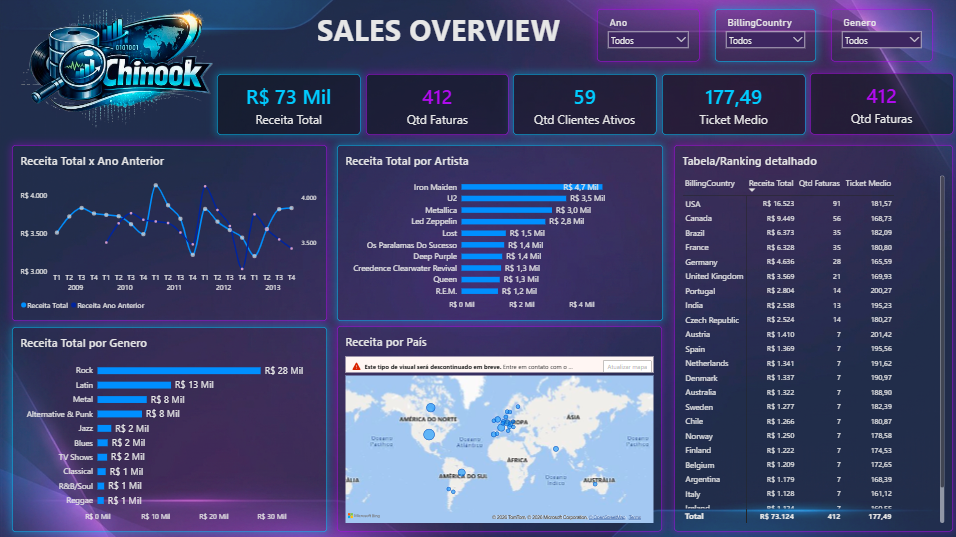

The dashboard page shown, as its layout file describes it:
{"tool":"powerbi","page":{"name":"Página 1","canvas":[1920,1080],"ordinal":0},"visuals":[{"type":"image","box":[0,19.8,480.5,251.3],"z":0},{"type":"textbox","box":[637,19.8,518,127.8],"z":1000},{"type":"card","fields":{"Values":["# Medidas.Receita Total"]},"box":[436.7,150,286.7,121.7],"z":2000},{"type":"card","fields":{"Values":["# Medidas.Qtd Faturas"]},"box":[733.3,150,285,121.7],"z":3000},{"type":"card","fields":{"Values":["# Medidas.Qtd Clientes Ativos"]},"box":[1028.3,150,286.7,121.7],"z":4000},{"type":"card","fields":{"Values":["# Medidas.Ticket Medio"]},"box":[1326.7,150,286.7,121.7],"z":5000},{"type":"card","fields":{"Values":["# Medidas.Qtd Faturas"]},"box":[1621.7,148.3,286.7,123.3],"z":6000},{"type":"lineChart","title":"Receita Total x Ano Anterior","fields":{"Category":["Calendario.Ano Hierarquia.Ano","Calendario.Ano Hierarquia.Trimestre","Calendario.Ano Hierarquia.MesNome","Calendario.Ano Hierarquia.Data"],"Y":["# Medidas.Receita Total"],"Y2":["# Medidas.Receita Ano Anterior"]},"box":[53.1,291.5,630,351.7],"z":7000},{"type":"clusteredBarChart","fields":{"Category":["Artist.Artista"],"Y":["# Medidas.Receita Total"]},"box":[675,291.7,651.7,351.7],"z":9000},{"type":"map","title":"Receita por País","fields":{"Category":["Invoice.BillingCountry"],"Size":["# Medidas.Receita Total"]},"box":[676.1,654.3,650,410.9],"z":10000},{"type":"pivotTable","title":"Tabela/Ranking detalhado","fields":{"Rows":["Invoice.BillingCountry"],"Values":["# Medidas.Receita Total","# Medidas.Qtd Faturas","# Medidas.Ticket Medio"]},"box":[1350,291.7,558.3,773.3],"z":11000},{"type":"slicer","fields":{"Values":["Calendario.Ano"]},"box":[1196.7,20,205,105],"z":12000},{"type":"slicer","fields":{"Values":["Invoice.BillingCountry"]},"box":[1431.7,20,201.7,105],"z":13000},{"type":"slicer","fields":{"Values":["Genre.Genero"]},"box":[1663.3,20,203.3,105],"z":14000},{"type":"clusteredBarChart","fields":{"Category":["Genre.Genero"],"Y":["# Medidas.Receita Total"]},"box":[25,655,630,410],"z":15000}]}

Visuals, with their boxes in screenshot pixels (x1, y1, x2, y2), scaled from the page's 1920x1080 canvas onto the 956x537 screenshot:
image: (0, 10, 239, 135)
textbox: (317, 10, 575, 73)
card - # Medidas.Receita Total: (217, 75, 360, 135)
card - # Medidas.Qtd Faturas: (365, 75, 507, 135)
card - # Medidas.Qtd Clientes Ativos: (512, 75, 655, 135)
card - # Medidas.Ticket Medio: (661, 75, 803, 135)
card - # Medidas.Qtd Faturas: (807, 74, 950, 135)
"Receita Total x Ano Anterior" lineChart: (26, 145, 340, 320)
clusteredBarChart - Artist.Artista x # Medidas.Receita Total: (336, 145, 661, 320)
"Receita por País" map: (337, 325, 660, 530)
"Tabela/Ranking detalhado" pivotTable: (672, 145, 950, 530)
slicer - Calendario.Ano: (596, 10, 698, 62)
slicer - Invoice.BillingCountry: (713, 10, 813, 62)
slicer - Genre.Genero: (828, 10, 929, 62)
clusteredBarChart - Genre.Genero x # Medidas.Receita Total: (12, 326, 326, 530)
